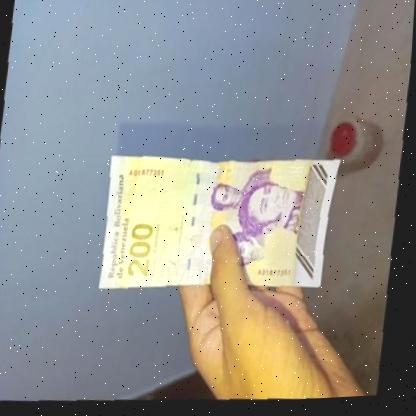two_hundred-front-vef: (96, 147, 348, 307)
